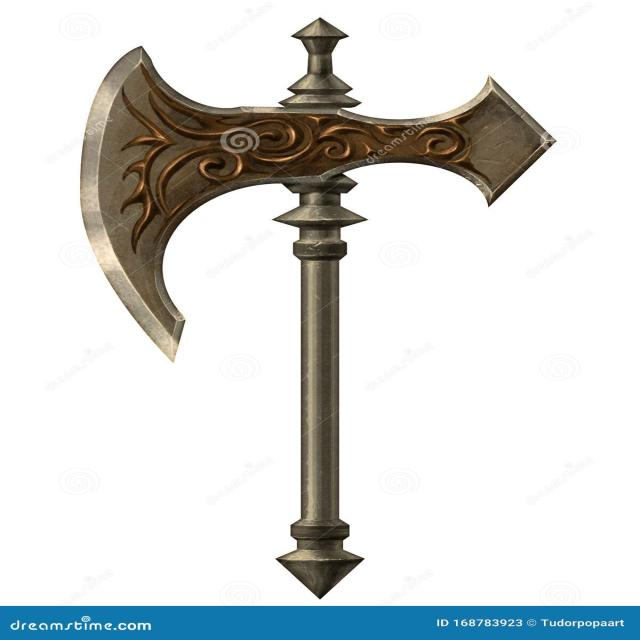Gun: (59, 0, 598, 603)
